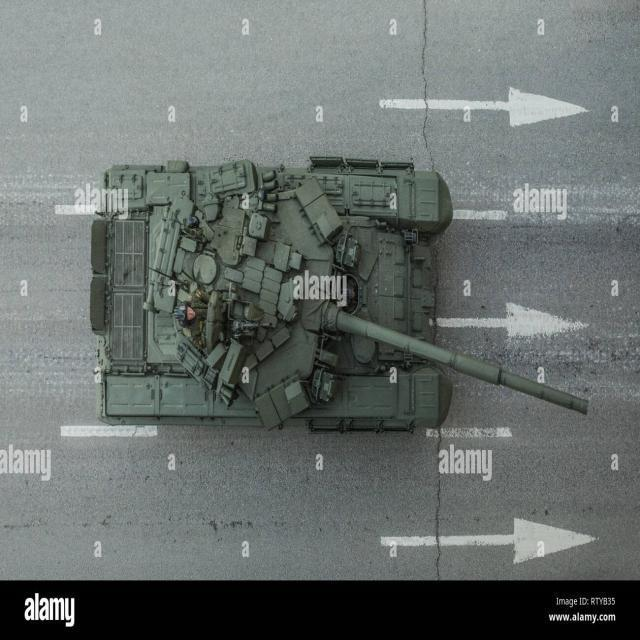Tanks: (85, 157, 592, 446)
